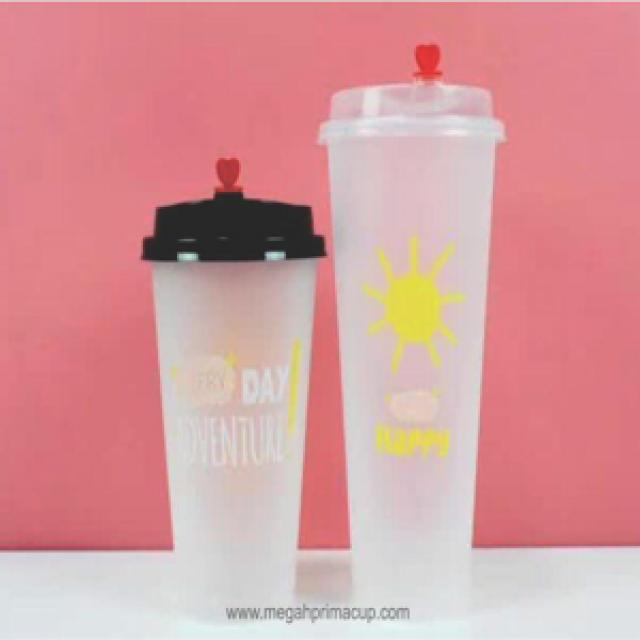plastic cup: (318, 53, 508, 636), (132, 186, 333, 632)
